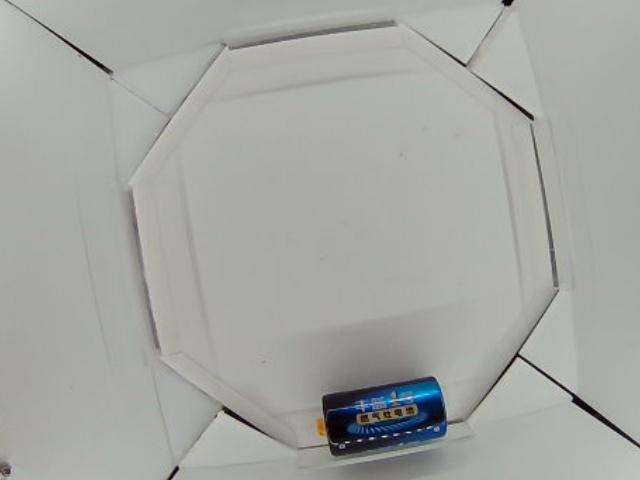Battery: (318, 374, 448, 456)
